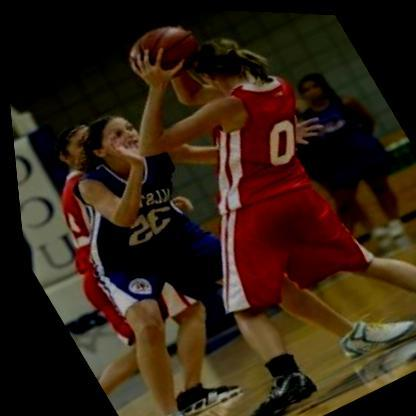basketball: (107, 4, 213, 98)
